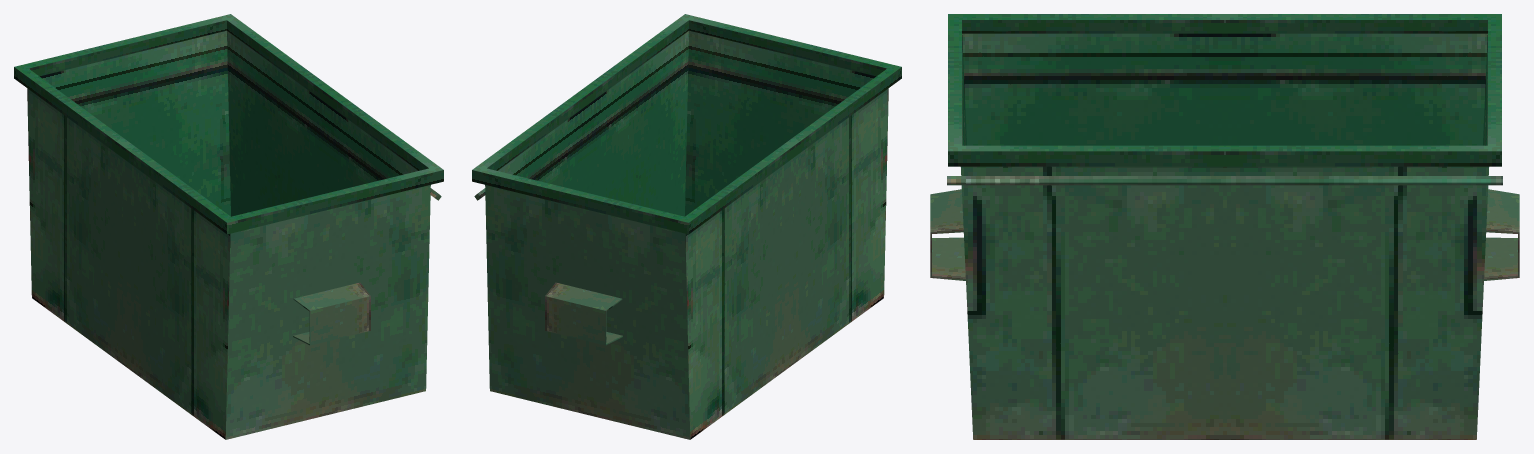
Rendered from dumpster_empty_no_lid.glb.
3 views of the same model, side by side, from view 1: azimuth 30°, elevation 25°; view 2: azimuth 150°, elevation 25°; view 3: azimuth 270°, elevation 25° (orthographic). The views are drawn at different scales.
Visible parts, largest first — view 1: dumpster_empty_no_lid; view 2: dumpster_empty_no_lid; view 3: dumpster_empty_no_lid.
Part boxes in pixels (left/top/right/bottom): dumpster_empty_no_lid: left=14, top=14, right=443, bottom=439; dumpster_empty_no_lid: left=472, top=14, right=901, bottom=439; dumpster_empty_no_lid: left=930, top=14, right=1519, bottom=439.
Bounding box in the file's own units: 2.03 × 2.02 × 3.67.
Materials: 1 (1 with a texture image).
